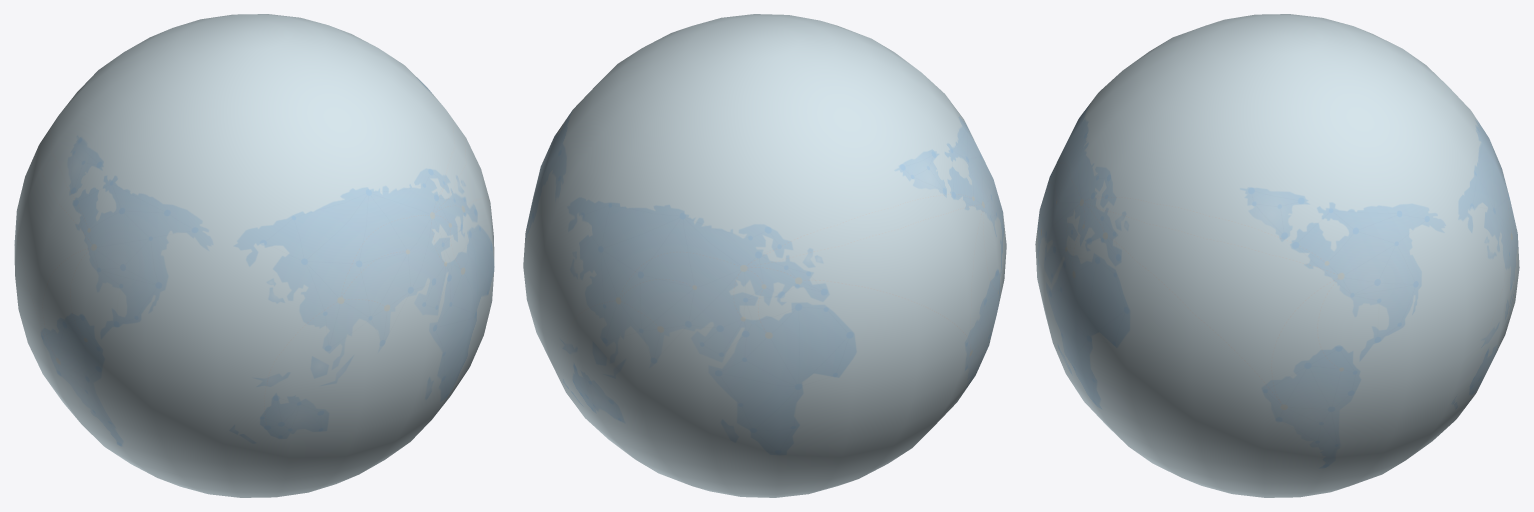
Rendered from sphere_background.obj.
3 renders of one model, left to right at view 1: azimuth 30°, elevation 25°; view 2: azimuth 150°, elevation 25°; view 3: azimuth 270°, elevation 25°, orthographic.
Visible parts, largest first — view 1: Background_Logo; view 2: Background_Logo; view 3: Background_Logo.
Boxes of the visible parts, x1,y1,x2,y2 form: Background_Logo: (14, 14, 494, 497); Background_Logo: (523, 14, 1006, 497); Background_Logo: (1035, 14, 1519, 497).
Bounding box in the file's own units: 78.23 × 78.27 × 78.19.
